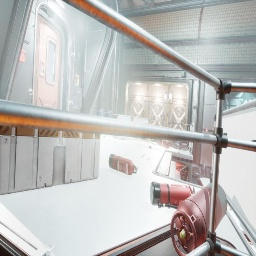0: (145, 138, 154, 141)
EmergencyPhone ,: (75, 71, 79, 86)
FireAlarm ,: (19, 49, 25, 63)
FireExtinguisher ]: (150, 181, 196, 210), (109, 154, 138, 176)
NitrogenTank ,: (170, 182, 227, 256), (157, 140, 171, 149)
